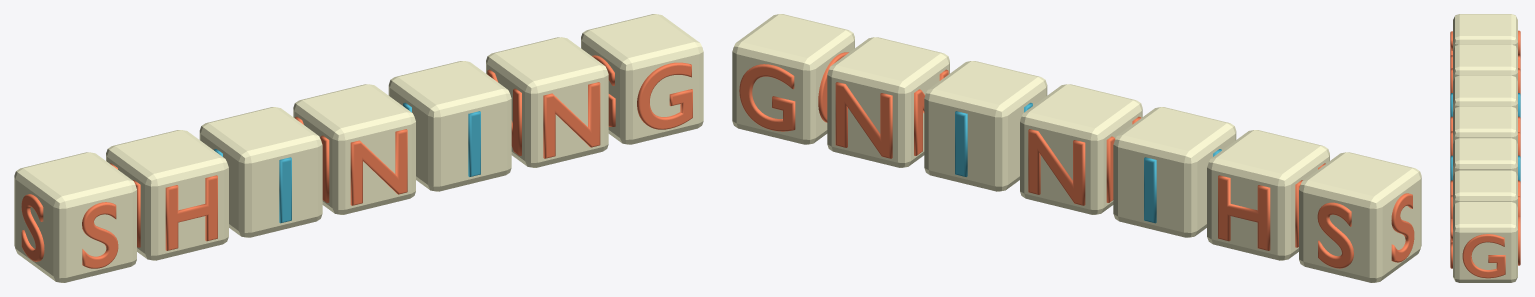
File: shining.fbx
The picture shows the model from 3 angles, left to right: view 1: azimuth 30°, elevation 25°; view 2: azimuth 150°, elevation 25°; view 3: azimuth 270°, elevation 25°; orthographic projection. The views are drawn at different scales.
Visible parts, largest first — view 1: Shining; view 2: Shining; view 3: Shining.
Part boxes in pixels (x1,y1,x2,y2): Shining: [14, 14, 703, 282]; Shining: [732, 14, 1421, 282]; Shining: [1450, 14, 1520, 282].
Bounding box in the file's own units: 1585 × 200 × 216.
